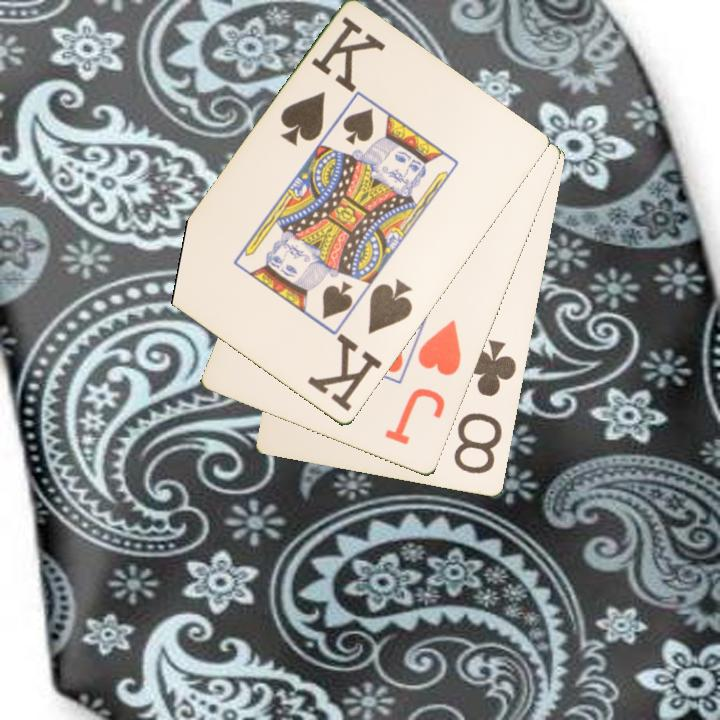8c: (450, 336, 520, 477)
Jh: (382, 316, 465, 449)
Ks: (304, 275, 416, 415), (276, 13, 388, 150)
